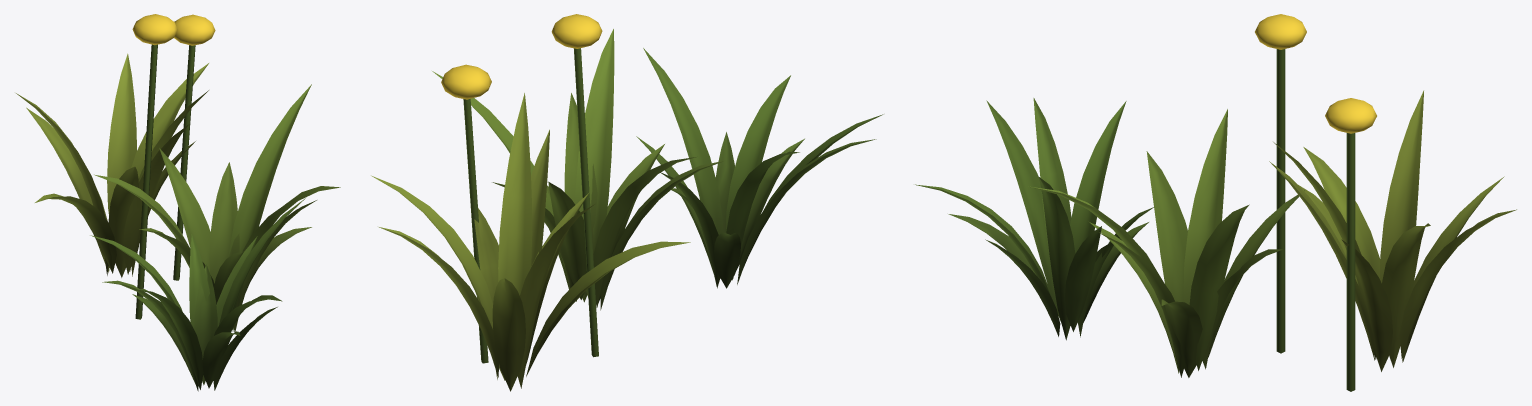
File: yd_weeds__221.glb
3 renders of one model, left to right at view 1: azimuth 30°, elevation 25°; view 2: azimuth 150°, elevation 25°; view 3: azimuth 270°, elevation 25°, orthographic. The views are drawn at different scales.
Visible parts, largest first — view 1: prop_yd_weeds; view 2: prop_yd_weeds; view 3: prop_yd_weeds.
Part boxes in pixels (x1,y1,x2,y2): prop_yd_weeds: (16, 14, 340, 391); prop_yd_weeds: (371, 14, 883, 391); prop_yd_weeds: (915, 14, 1516, 391).
Bounding box in the file's own units: 0.3709 × 0.3468 × 0.5534.
